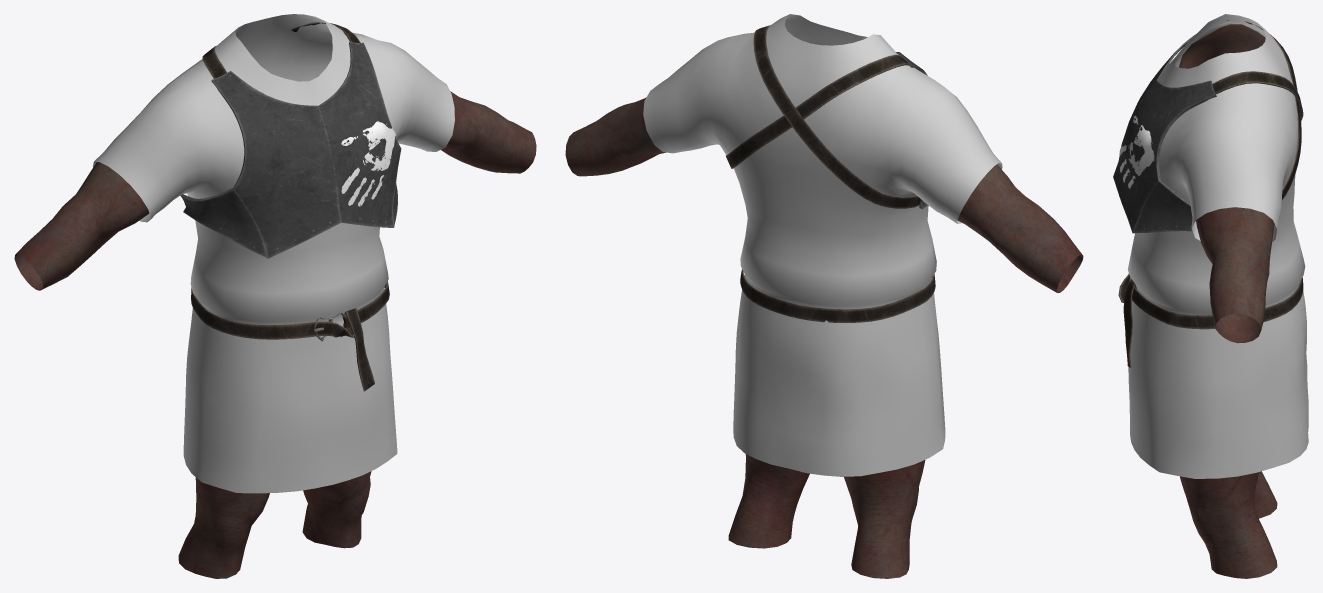
File: sk_uruk_hai_plate_light_a1.fbx
3 views of the same model, side by side, from view 1: azimuth 30°, elevation 25°; view 2: azimuth 150°, elevation 25°; view 3: azimuth 270°, elevation 25° (orthographic). The views are drawn at different scales.
Visible parts, largest first — view 1: sk_uruk_hai_plate_light_a1.0, sk_uruk_hai_plate_light_a1.2, sk_uruk_hai_plate_light_a1.body.1, sk_uruk_hai_plate_light_a1.body.0, sk_uruk_hai_plate_light_a1.1, sk_uruk_hai_plate_light_a1.3; view 2: sk_uruk_hai_plate_light_a1.0, sk_uruk_hai_plate_light_a1.body.1, sk_uruk_hai_plate_light_a1.body.0, sk_uruk_hai_plate_light_a1.1; view 3: sk_uruk_hai_plate_light_a1.0, sk_uruk_hai_plate_light_a1.body.1, sk_uruk_hai_plate_light_a1.2, sk_uruk_hai_plate_light_a1.body.0, sk_uruk_hai_plate_light_a1.1, sk_uruk_hai_plate_light_a1.3.
Part boxes in pixels (<box>): sk_uruk_hai_plate_light_a1.0: <box>93,14,454,493</box>; sk_uruk_hai_plate_light_a1.2: <box>180,42,401,258</box>; sk_uruk_hai_plate_light_a1.body.1: <box>14,91,536,290</box>; sk_uruk_hai_plate_light_a1.body.0: <box>178,471,371,578</box>; sk_uruk_hai_plate_light_a1.1: <box>184,22,389,391</box>; sk_uruk_hai_plate_light_a1.3: <box>341,121,395,206</box>; sk_uruk_hai_plate_light_a1.0: <box>643,14,1002,476</box>; sk_uruk_hai_plate_light_a1.body.1: <box>565,97,1083,292</box>; sk_uruk_hai_plate_light_a1.body.0: <box>728,454,925,578</box>; sk_uruk_hai_plate_light_a1.1: <box>726,25,935,322</box>; sk_uruk_hai_plate_light_a1.0: <box>1127,14,1308,478</box>; sk_uruk_hai_plate_light_a1.body.1: <box>1179,24,1274,343</box>; sk_uruk_hai_plate_light_a1.2: <box>1113,34,1216,233</box>; sk_uruk_hai_plate_light_a1.body.0: <box>1180,471,1277,578</box>; sk_uruk_hai_plate_light_a1.1: <box>1118,20,1303,367</box>; sk_uruk_hai_plate_light_a1.3: <box>1119,115,1154,188</box>.
Size of the model in its own units: 1.2 by 0.4185 by 1.19.
